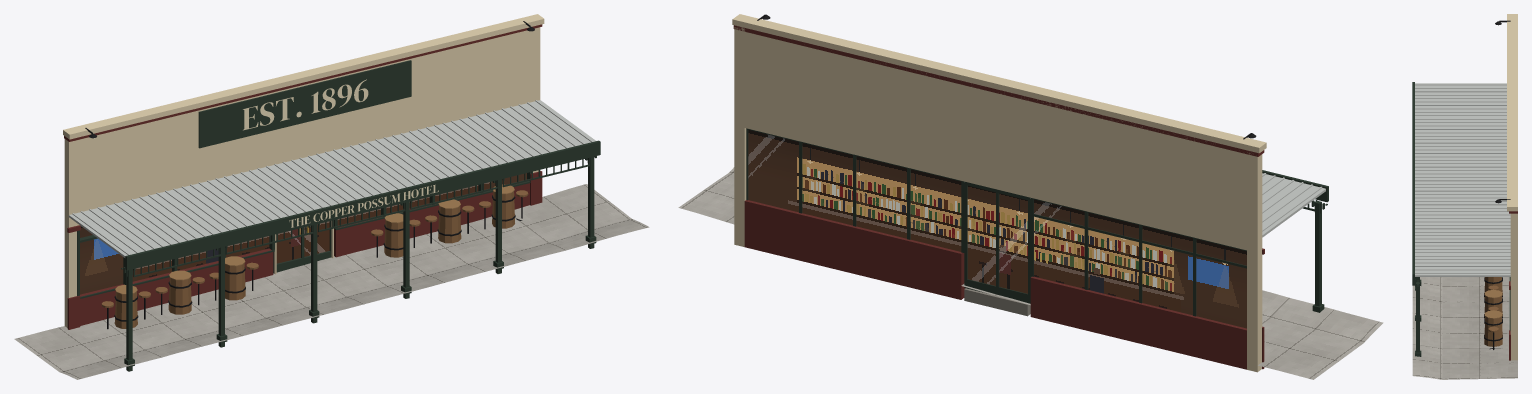
The model's file is copper_possum.glb.
3 renders of one model, left to right at view 1: azimuth 30°, elevation 25°; view 2: azimuth 150°, elevation 25°; view 3: azimuth 270°, elevation 25°, orthographic. The views are drawn at different scales.
Parts seen in each view (by area): view 1: CopperPossum; view 2: CopperPossum; view 3: CopperPossum.
Part boxes in pixels (<box>): CopperPossum: <box>14,14,649,379</box>; CopperPossum: <box>678,14,1383,379</box>; CopperPossum: <box>1412,14,1517,379</box>.
Size of what is drawn, in the model's own units: 17 by 5.77 by 3.27.
Materials: 17 (2 with a texture image).
